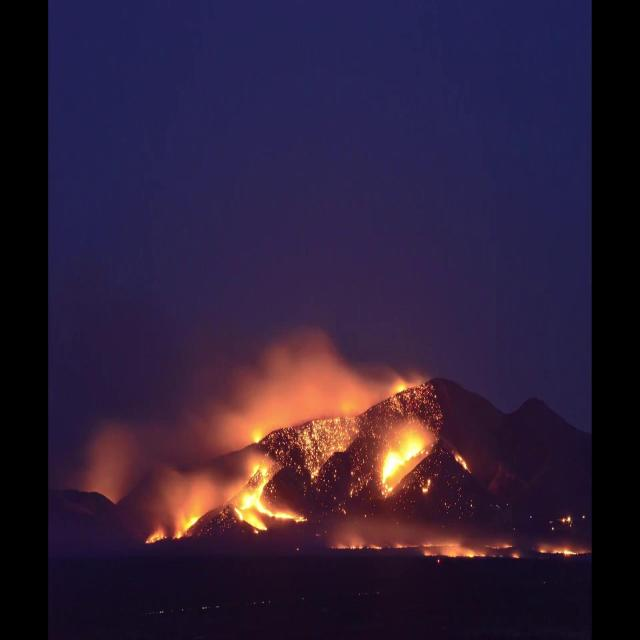Fire: (265, 413, 357, 471), (232, 465, 306, 531), (379, 439, 421, 495), (174, 514, 200, 540), (453, 451, 470, 473), (443, 548, 484, 557), (144, 529, 167, 545), (541, 547, 576, 555), (423, 540, 459, 547), (335, 543, 363, 550), (423, 478, 431, 493), (396, 382, 406, 394), (254, 434, 262, 444), (395, 542, 405, 550), (562, 515, 571, 523), (504, 540, 512, 548), (372, 543, 381, 550)
